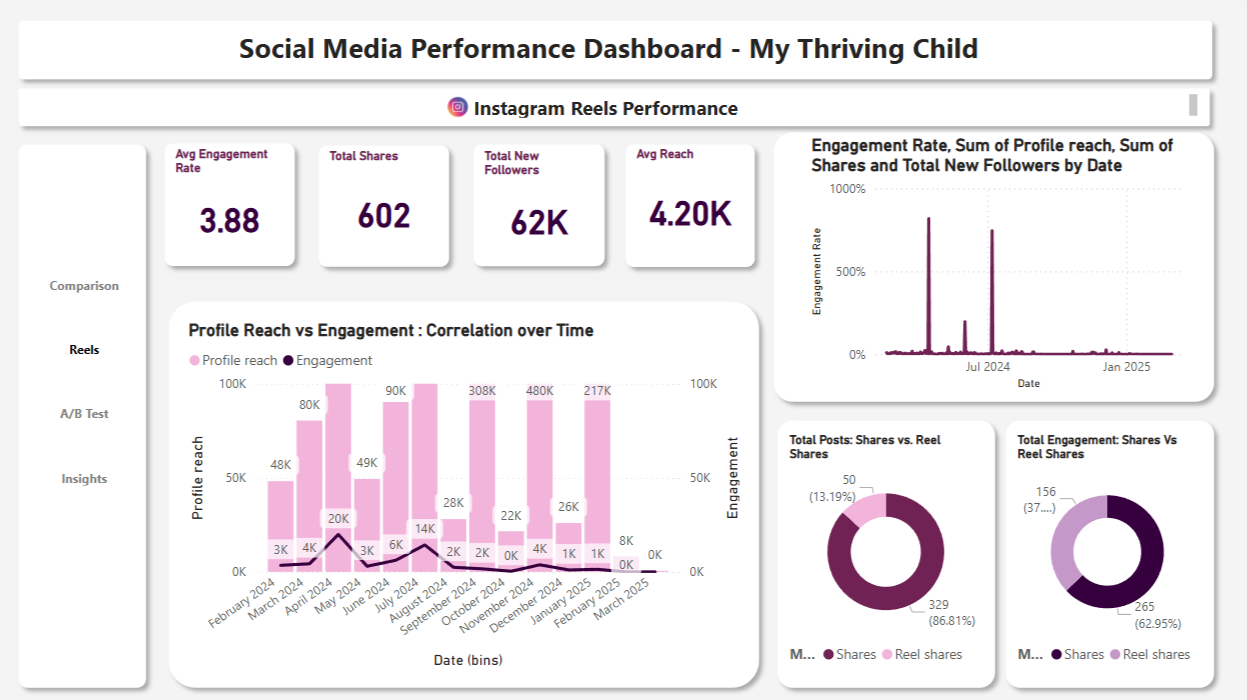

This screenshot's page, from the dashboard's own definition file:
{"tool":"powerbi","page":{"name":"dashboard2","canvas":[1280,720],"ordinal":1},"visuals":[{"type":"shape","box":[787.8,403.6,229.5,278.2],"z":0},{"type":"shape","box":[49.7,15.1,1179,75.4],"z":1000},{"type":"textbox","box":[63,26.6,1146.5,54.1],"z":2000},{"type":"shape","box":[49.7,80.7,1176.7,55],"z":3000},{"type":"shape","box":[784,123.5,446.4,280.1],"z":4000},{"type":"textbox","box":[63,90.4,1146.5,32.8],"z":5000},{"type":"actionButton","box":[0,0,100,40],"z":6000},{"type":"shape","box":[492.1,135.7,145.4,136.6],"z":7000},{"type":"shape","box":[640.2,135.7,143.6,137.4],"z":8000},{"type":"shape","box":[341.4,136.2,144.9,136.2],"z":9000},{"type":"shape","box":[191.5,133.9,144.5,137.4],"z":10000},{"type":"card","title":"Avg Engagement Rate","fields":{"Values":["instagram_data.Avg Engagement Rate"]},"box":[206.6,147.2,115.3,110.8],"z":11000},{"type":"card","title":"Total Shares","fields":{"Values":["instagram_data.Total Shares"]},"box":[356,148.8,115.7,110.9],"z":12000},{"type":"card","title":"Total New Followers","fields":{"Values":["instagram_data.Total New Followers"]},"box":[506.7,148.8,115.7,110.9],"z":13000},{"type":"card","title":"Avg Reach","fields":{"Values":["instagram_data.Avg Reach"]},"box":[654.6,146.9,114.8,110.9],"z":14000},{"type":"lineChart","fields":{"Category":["DateTable.Date"],"Y":["instagram_data.Engagement Rate"]},"box":[824.7,135.7,384.4,252.3],"z":15000},{"type":"image","box":[439.8,91.3,92.2,32.8],"z":16000},{"type":"shape","box":[49.6,135.2,142,546.6],"z":17000},{"type":"shape","box":[195.5,287.9,592.3,393.9],"z":18000},{"type":"shape","box":[1009.6,403.6,220.8,278.2],"z":19000},{"type":"lineStackedColumnComboChart","title":"Profile Reach vs Engagement : Correlation over Time","fields":{"Y":["Sum(instagram_data.Profile reach)"],"Y2":["Sum(instagram_data.Engagement)"],"Category":["DateTable.Date (bins)"]},"box":[218.8,315.1,545.7,344.3],"z":20000},{"type":"donutChart","title":"Total Posts: Shares vs. Reel Shares","fields":{"Category":["instagram_data.Metric Column"],"Y":["instagram_data.Total Posts"]},"box":[803.4,425,197.4,234.4],"z":21000},{"type":"donutChart","title":"Total Engagement: Shares Vs Reel Shares","fields":{"Category":["instagram_data.Metric Column"],"Y":["instagram_data.Total Engagement"]},"box":[1025.2,425,184.8,234.4],"z":22000},{"type":"actionButton","box":[76.8,264.6,91.4,28.2],"z":23000},{"type":"actionButton","box":[76.8,328.4,91.4,27.2],"z":24000},{"type":"actionButton","box":[76.8,391.3,91.4,27.2],"z":25000},{"type":"actionButton","box":[76.8,454.2,91.4,27.2],"z":26000}]}

Visuals, with their boxes in screenshot pixels (x1, y1, x2, y2), scaled from the page's 1280x720 canvas onto the 1247x700 screenshot:
shape: (x1=767, y1=392, x2=991, y2=663)
shape: (x1=48, y1=15, x2=1197, y2=88)
textbox: (x1=61, y1=26, x2=1178, y2=78)
shape: (x1=48, y1=78, x2=1195, y2=132)
shape: (x1=764, y1=120, x2=1199, y2=392)
textbox: (x1=61, y1=88, x2=1178, y2=120)
actionButton: (x1=0, y1=0, x2=97, y2=39)
shape: (x1=479, y1=132, x2=621, y2=265)
shape: (x1=624, y1=132, x2=764, y2=266)
shape: (x1=333, y1=132, x2=474, y2=265)
shape: (x1=187, y1=130, x2=327, y2=264)
"Avg Engagement Rate" card: (x1=201, y1=143, x2=314, y2=251)
"Total Shares" card: (x1=347, y1=145, x2=460, y2=252)
"Total New Followers" card: (x1=494, y1=145, x2=606, y2=252)
"Avg Reach" card: (x1=638, y1=143, x2=750, y2=251)
lineChart - DateTable.Date x instagram_data.Engagement Rate: (x1=803, y1=132, x2=1178, y2=377)
image: (x1=428, y1=89, x2=518, y2=121)
shape: (x1=48, y1=131, x2=187, y2=663)
shape: (x1=190, y1=280, x2=767, y2=663)
shape: (x1=984, y1=392, x2=1199, y2=663)
"Profile Reach vs Engagement : Correlation over Time" lineStackedColumnComboChart: (x1=213, y1=306, x2=745, y2=641)
"Total Posts: Shares vs. Reel Shares" donutChart: (x1=783, y1=413, x2=975, y2=641)
"Total Engagement: Shares Vs Reel Shares" donutChart: (x1=999, y1=413, x2=1179, y2=641)
actionButton: (x1=75, y1=257, x2=164, y2=285)
actionButton: (x1=75, y1=319, x2=164, y2=346)
actionButton: (x1=75, y1=380, x2=164, y2=407)
actionButton: (x1=75, y1=442, x2=164, y2=468)
